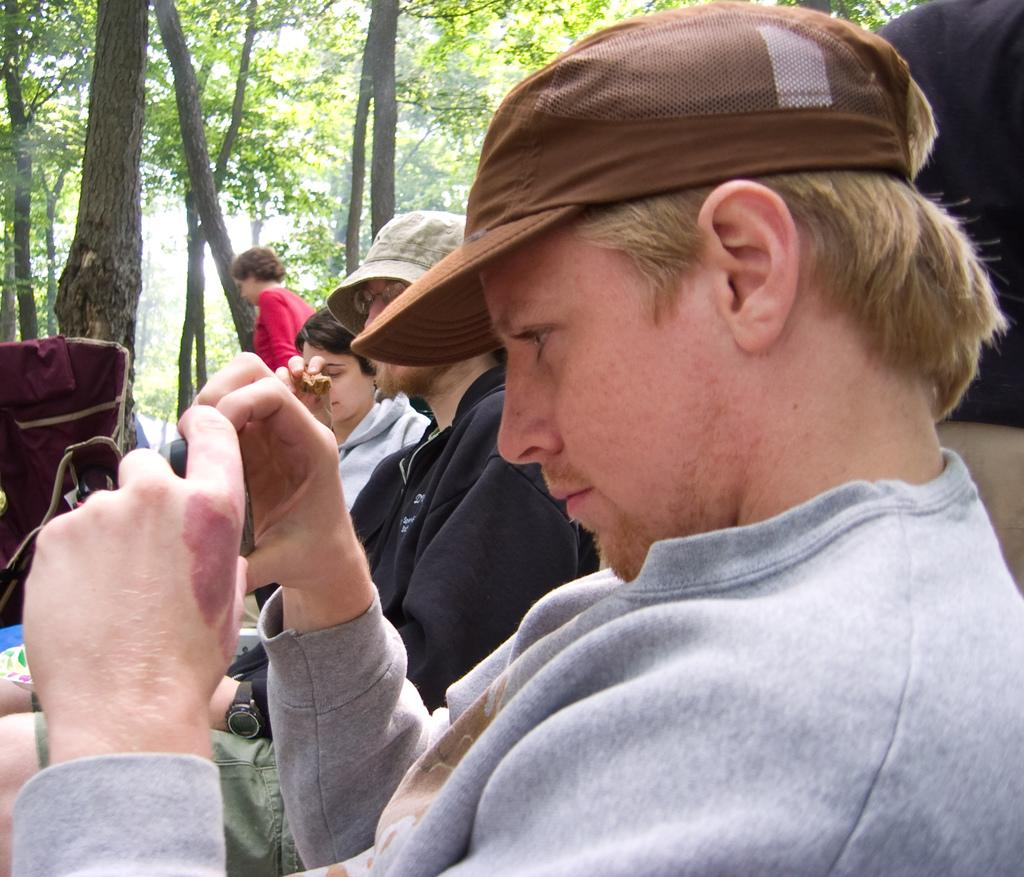Hat: (348, 0, 912, 375), (324, 201, 468, 338)
